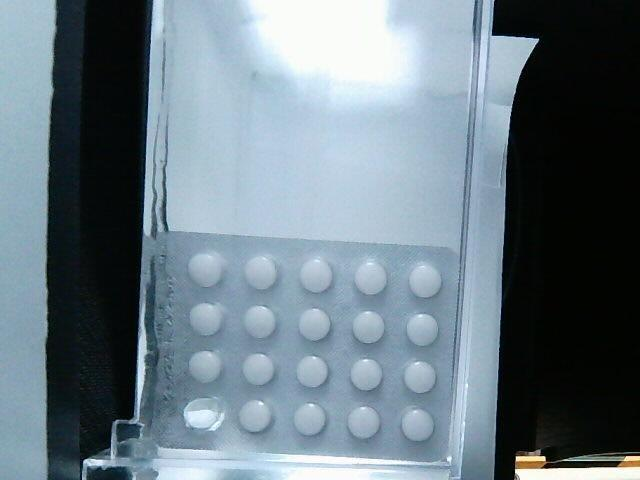Light Front: (150, 233, 457, 461)
No Pill Front: (184, 398, 226, 431)
Pill Front: (294, 256, 341, 297), (349, 255, 390, 301), (404, 253, 442, 301), (239, 251, 282, 293), (181, 246, 226, 286), (185, 348, 232, 384), (238, 393, 276, 436), (398, 404, 436, 446), (240, 301, 278, 342), (346, 403, 383, 444), (399, 355, 440, 392), (348, 311, 389, 348), (186, 298, 226, 335), (406, 308, 441, 349), (291, 401, 324, 438), (296, 309, 334, 340), (350, 358, 382, 391), (296, 355, 328, 386), (243, 354, 274, 384)
